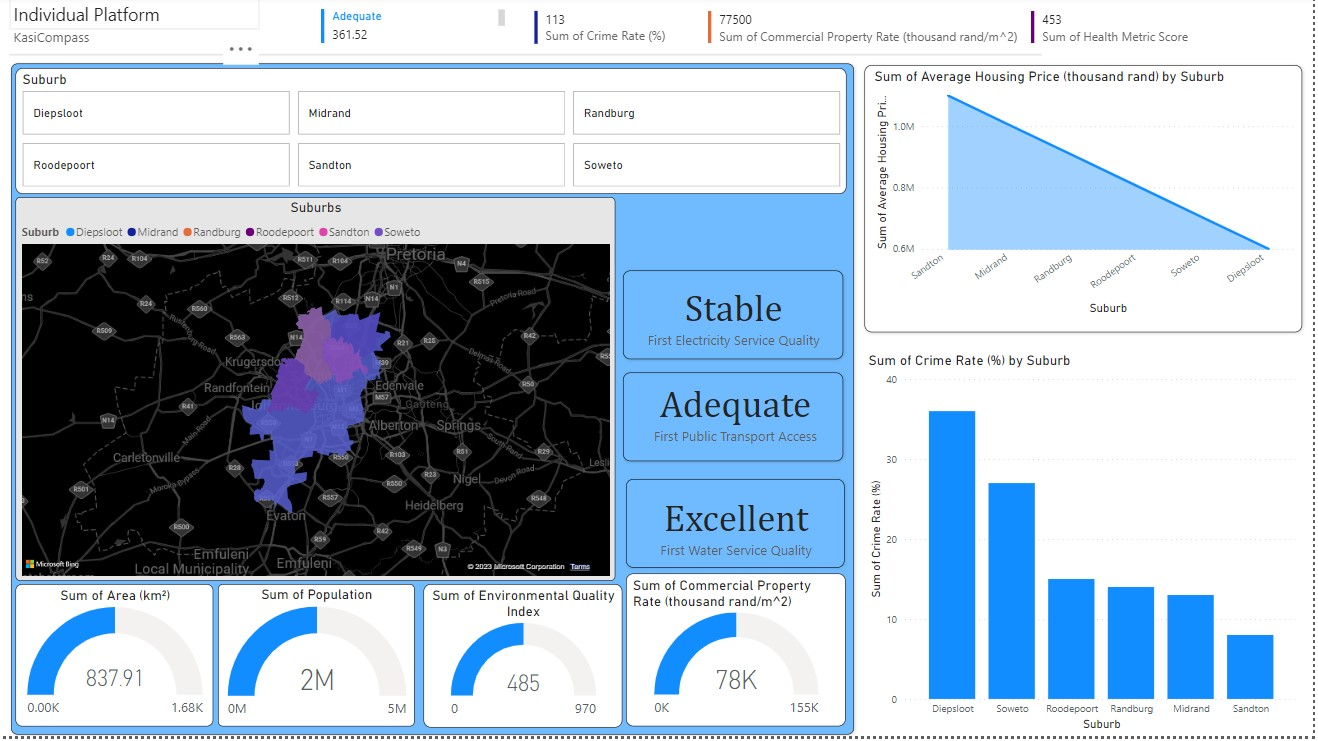

Layout of this report page (visuals, bound fields, positions):
{"tool":"powerbi","page":{"name":"Page 1","canvas":[1600,900],"ordinal":0},"visuals":[{"type":"shape","box":[12,58,1256,26],"z":0},{"type":"shape","box":[14.1,82.4,1025.9,816.5],"z":1000},{"type":"shape","box":[760,334.1,268.2,108.2],"z":2000},{"type":"card","fields":{"Values":["Min(KasiConnect.Electricity Service Quality)"]},"box":[767.1,341.2,254.1,91.8],"z":3000},{"type":"multiRowCard","fields":{"Values":["Sum(KasiConnect.Health Metric Score)"]},"box":[1250.5,12.8,335.9,49.3],"z":4000},{"type":"multiRowCard","fields":{"Values":["Sum(KasiConnect.Commercial Property Rate (thousand rand/m^2))"]},"box":[858,12.8,392.5,49.3],"z":5000},{"type":"multiRowCard","fields":{"Values":["Sum(KasiConnect.Crime Rate (%))"]},"box":[647,12,199,50],"z":6000},{"type":"multiRowCard","fields":{"Values":["Sum(KasiConnect.Area (km²))","KasiConnect.Public Transport Access"]},"box":[387,11,233.7,51.1],"z":7000},{"type":"textbox","box":[12,33,306,32],"z":8000},{"type":"textbox","box":[12,2,306,39],"z":9000},{"type":"gauge","fields":{"Y":["Sum(KasiConnect.Population)"]},"box":[266.5,715.6,239.1,173.4],"z":10000},{"type":"advancedSlicerVisual","fields":{"Values":["KasiConnect.Suburb"]},"box":[19.4,87.2,1011.1,153],"z":11000},{"type":"gauge","fields":{"Y":["Sum(KasiConnect.Area (km²))"]},"box":[20.1,715.6,241,173.4],"z":12000},{"type":"filledMap","title":"Suburbs","fields":{"Series":["KasiConnect.Suburb"],"Category":["KasiConnect.Suburb"]},"box":[20.1,244.6,730.2,467.3],"z":13000},{"type":"gauge","fields":{"Y":["Sum(KasiConnect.Environmental Quality Index)"]},"box":[517.2,714.8,242.1,174.3],"z":14000},{"type":"shape","box":[760,458.8,268.2,108.2],"z":15000},{"type":"shape","box":[762.4,588.2,265.9,108.2],"z":16000},{"type":"card","fields":{"Values":["Min(KasiConnect.Public Transport Access)"]},"box":[778.8,458.8,232.9,91.8],"z":17000},{"type":"card","fields":{"Values":["Min(KasiConnect.Water Service Quality)"]},"box":[771.8,595.3,249.4,94.1],"z":18000},{"type":"shape","box":[1053.8,83.3,532.7,325.4],"z":19000},{"type":"gauge","fields":{"Y":["Sum(KasiConnect.Commercial Property Rate (thousand rand/m^2))"]},"box":[763.2,703.1,267.3,186],"z":20000},{"type":"areaChart","fields":{"Y":["Sum(KasiConnect.Average Housing Price (thousand rand))"],"Category":["KasiConnect.Suburb"]},"box":[1060.6,87.6,520.3,304.9],"z":21000},{"type":"columnChart","fields":{"Category":["KasiConnect.Suburb"],"Y":["Sum(KasiConnect.Crime Rate (%))"]},"box":[1053.3,432.7,533.1,465.5],"z":22000}]}

Visuals, with their boxes in screenshot pixels (x1, y1, x2, y2):
shape: l=10, t=40, r=1030, b=61
shape: l=11, t=60, r=845, b=723
shape: l=617, t=265, r=835, b=352
card - Min(KasiConnect.Electricity Service Quality): l=623, t=270, r=830, b=345
multiRowCard - Sum(KasiConnect.Health Metric Score): l=1016, t=4, r=1289, b=44
multiRowCard - Sum(KasiConnect.Commercial Property Rate (thousand rand/m^2)): l=697, t=4, r=1016, b=44
multiRowCard - Sum(KasiConnect.Crime Rate (%)): l=526, t=3, r=687, b=44
multiRowCard - Sum(KasiConnect.Area (km²)) x KasiConnect.Public Transport Access: l=314, t=2, r=504, b=44
textbox: l=10, t=20, r=258, b=46
textbox: l=10, t=0, r=258, b=26
gauge - Sum(KasiConnect.Population): l=216, t=574, r=411, b=715
advancedSlicerVisual - KasiConnect.Suburb: l=16, t=64, r=837, b=188
gauge - Sum(KasiConnect.Area (km²)): l=16, t=574, r=212, b=715
"Suburbs" filledMap: l=16, t=192, r=610, b=571
gauge - Sum(KasiConnect.Environmental Quality Index): l=420, t=574, r=617, b=715
shape: l=617, t=366, r=835, b=454
shape: l=619, t=471, r=835, b=559
card - Min(KasiConnect.Public Transport Access): l=633, t=366, r=822, b=440
card - Min(KasiConnect.Water Service Quality): l=627, t=477, r=830, b=553
shape: l=856, t=61, r=1289, b=325
gauge - Sum(KasiConnect.Commercial Property Rate (thousand rand/m^2)): l=620, t=564, r=837, b=715
areaChart - Sum(KasiConnect.Average Housing Price (thousand rand)) x KasiConnect.Suburb: l=862, t=64, r=1284, b=312
columnChart - KasiConnect.Suburb x Sum(KasiConnect.Crime Rate (%)): l=856, t=345, r=1289, b=723
